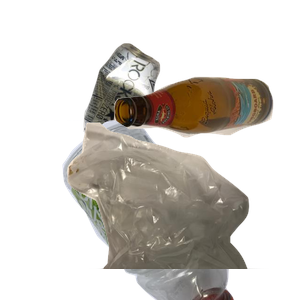glass: (111, 74, 300, 204)
metal: (81, 41, 234, 178)
plastic: (25, 120, 252, 300)
trash: (65, 120, 300, 300)
